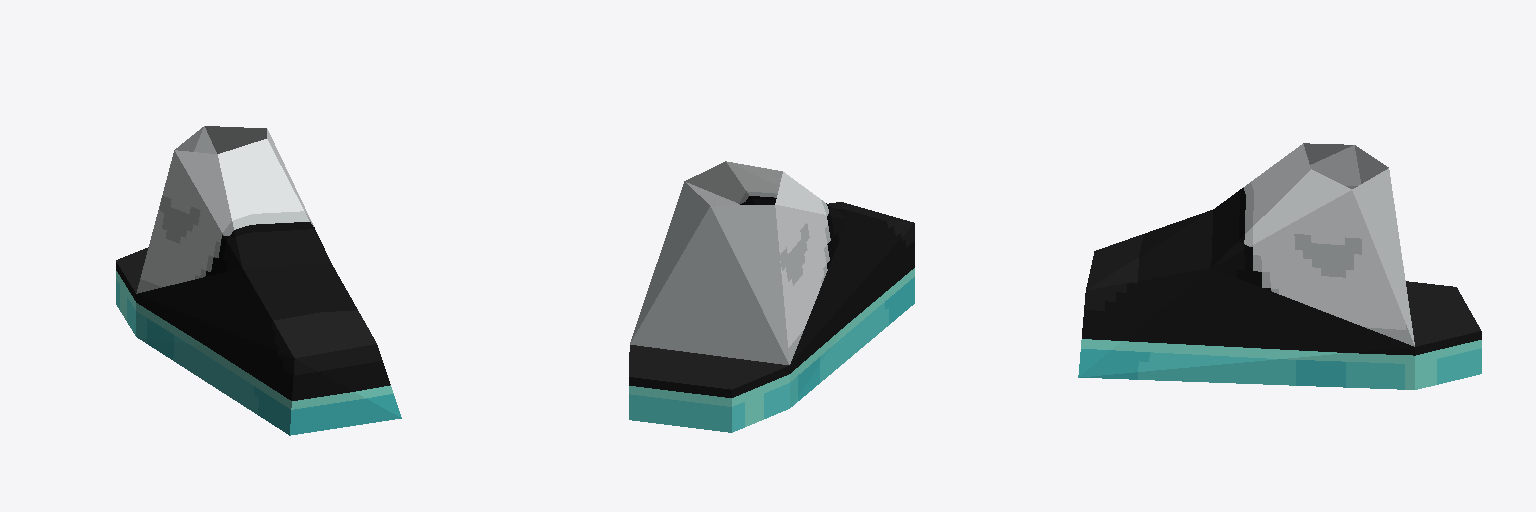
3 views of the same model, side by side, from view 1: azimuth 30°, elevation 25°; view 2: azimuth 150°, elevation 25°; view 3: azimuth 270°, elevation 25° (orthographic).
Parts seen in each view (by area): view 1: 12_RIGHT_FOOT; view 2: 12_RIGHT_FOOT; view 3: 12_RIGHT_FOOT.
Part boxes in pixels (bbox=[...]): 12_RIGHT_FOOT: bbox=[116, 126, 401, 435]; 12_RIGHT_FOOT: bbox=[629, 161, 914, 432]; 12_RIGHT_FOOT: bbox=[1078, 143, 1481, 389].
Bounding box in the file's own units: 0.1535 × 0.2065 × 0.3788.
Materials: 1 (1 with a texture image).